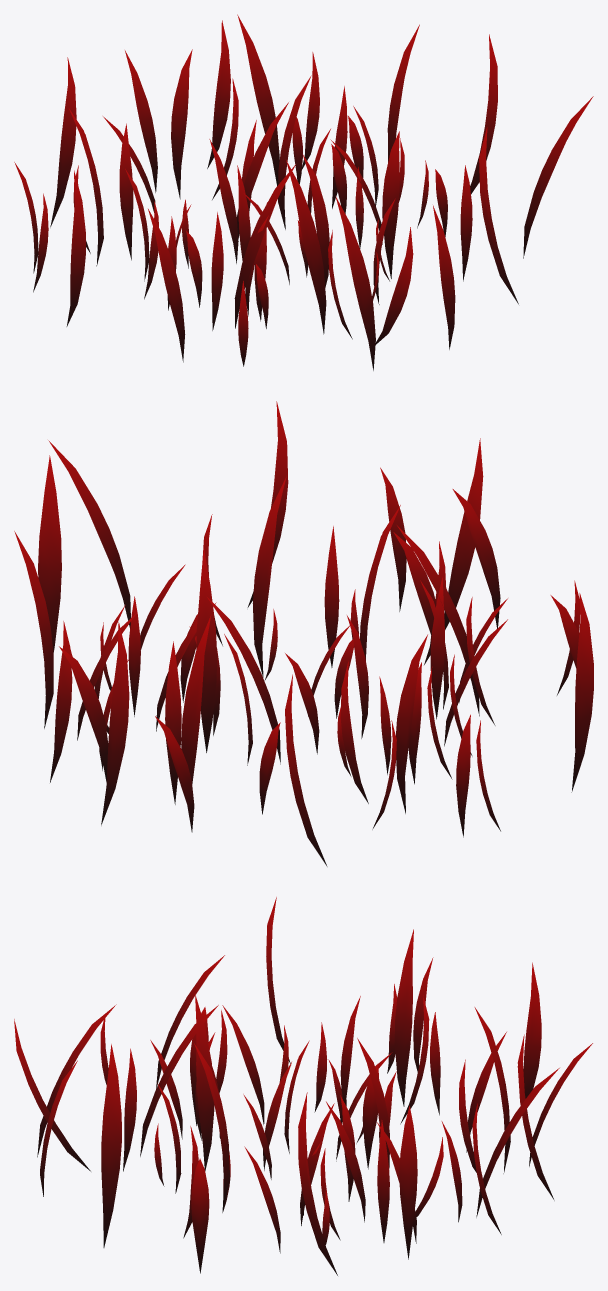
Rendered from Grass.fbx.
The picture shows the model from 3 angles, top to bottom: view 1: azimuth 30°, elevation 25°; view 2: azimuth 150°, elevation 25°; view 3: azimuth 270°, elevation 25°; orthographic projection. The views are drawn at different scales.
Parts seen in each view (by area): view 1: Grass; view 2: Grass; view 3: Grass.
Boxes of the visible parts, x1,y1,x2,y2 form: Grass: (14, 14, 593, 370); Grass: (14, 401, 593, 866); Grass: (14, 897, 592, 1275).
Size of the model in its own units: 3.18 by 1.17 by 3.14.
